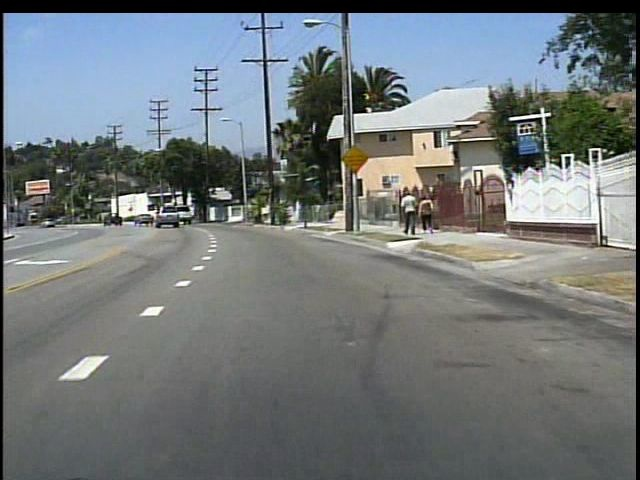person: (398, 187, 419, 238), (415, 193, 436, 234)
